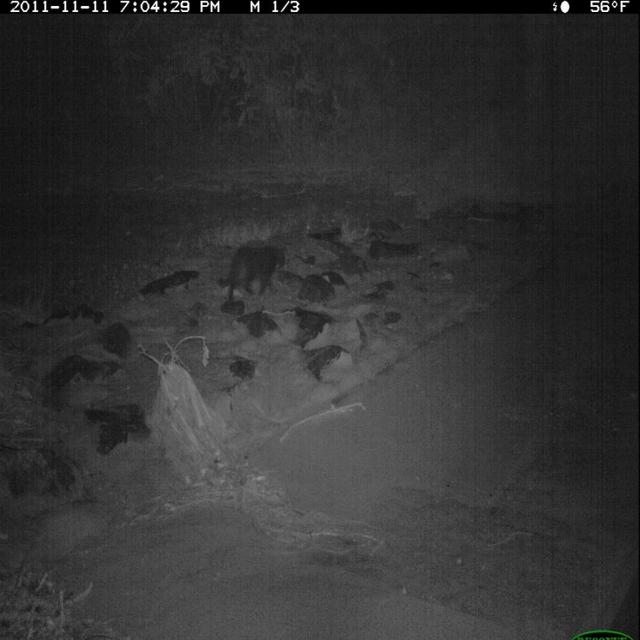cat: (214, 240, 294, 306)
